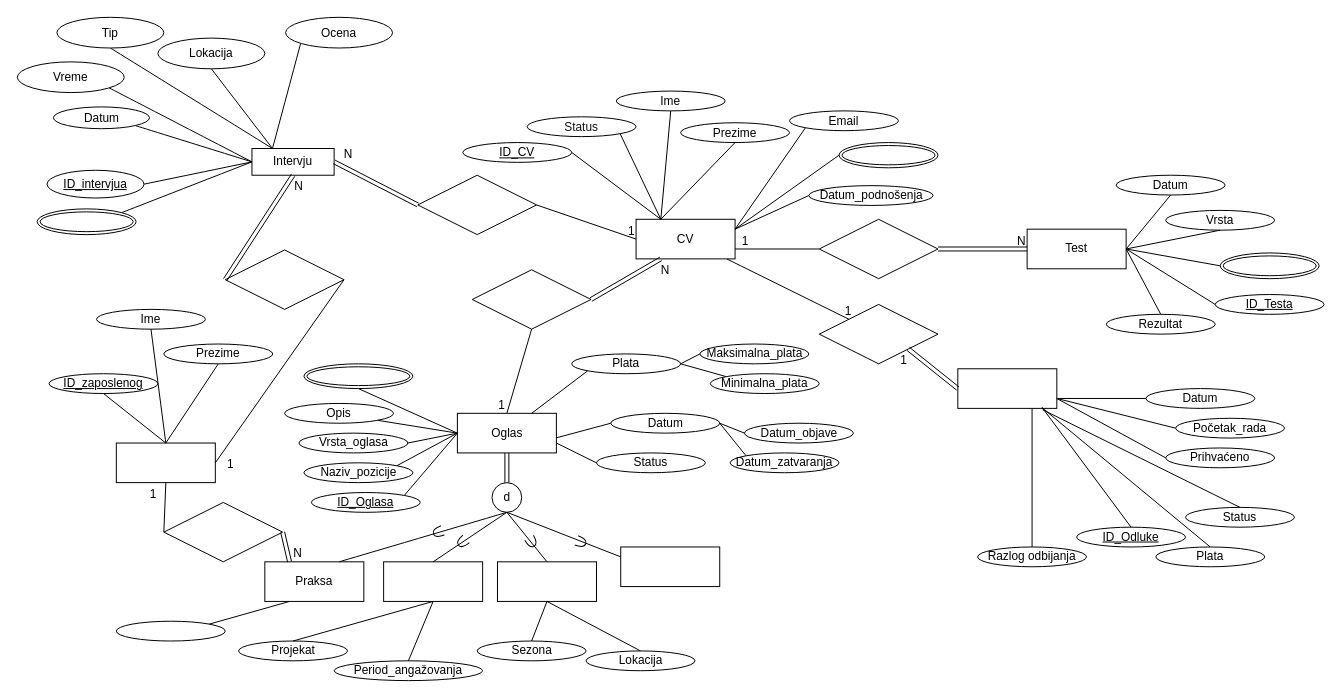
This 1341x698 diagram has some shape labels left out. Here are the shapes that lost their labels. From the top down, the box of each, then its label:
(838, 142, 938, 168): Broj_telefona
(36, 208, 136, 235): Napomena
(417, 174, 537, 235): IMA_INTERVJU
(818, 218, 938, 279): JE_TESTIRAN
(1219, 252, 1319, 279): Komentar
(224, 249, 344, 309): DRŽI_INTERVJU
(471, 269, 591, 329): JE_PRILOŽEN
(818, 303, 938, 364): JE_ODLUČENO
(303, 363, 413, 389): Zahtevi
(957, 368, 1057, 408): Odluka
(115, 442, 215, 483): Zaposleni
(163, 501, 283, 562): JE_MENTOR
(383, 561, 483, 601): Privremeni_oglas
(496, 561, 596, 601): Sezonski_oglas
(620, 546, 720, 587): Stalni_oglas
(115, 620, 225, 641): Trajanje_meseci
